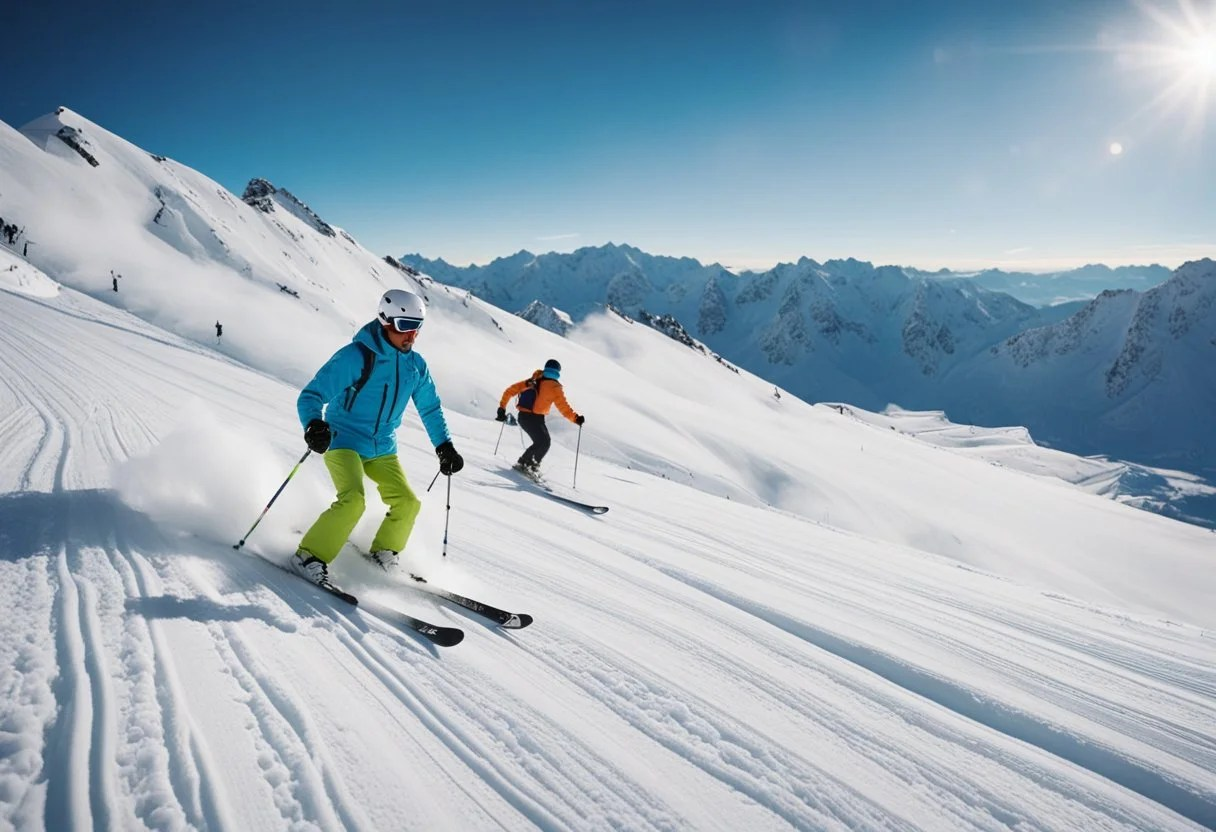skier: (228, 279, 534, 650)
